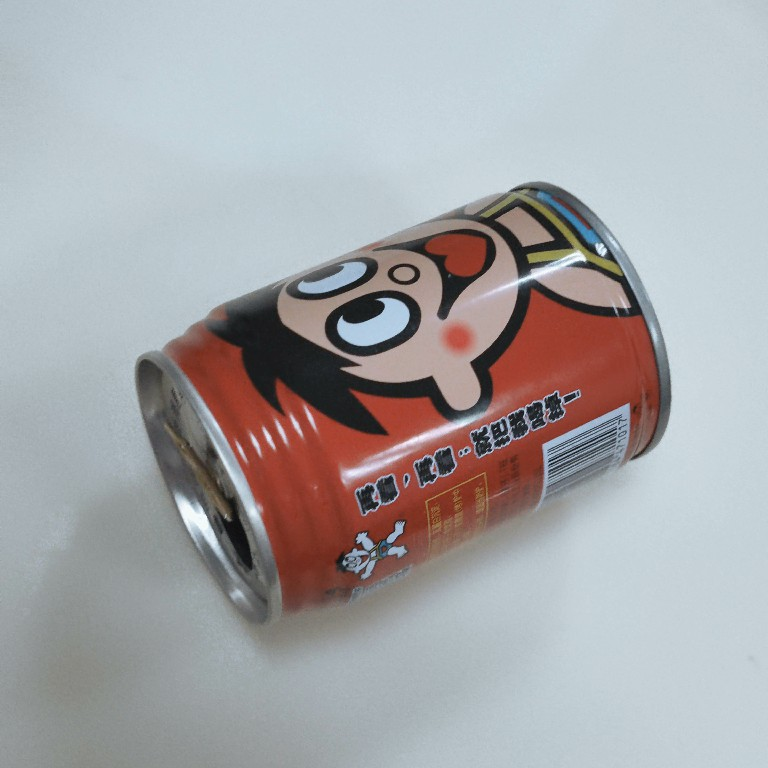can: (128, 178, 675, 627)
